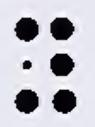one_cell_alphabet_yaman: (14, 17, 76, 114)
